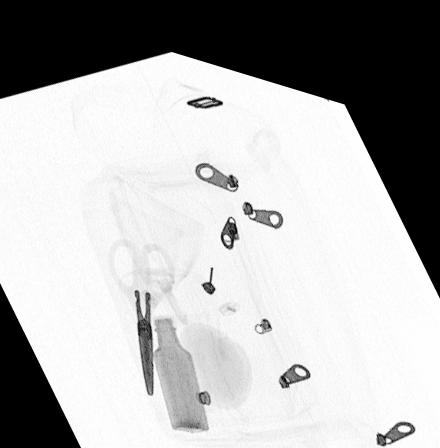Scissors: (104, 227, 176, 388)
